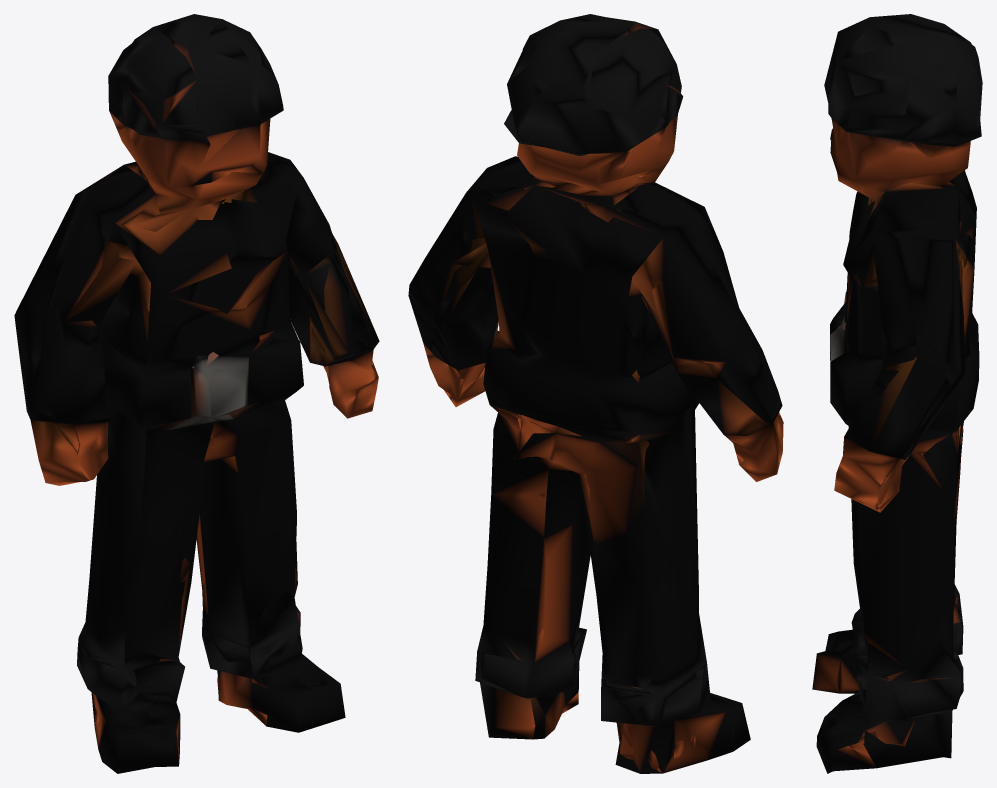
Rendered from gen3d-thief-lod0.glb.
3 views of the same model, side by side, from view 1: azimuth 30°, elevation 25°; view 2: azimuth 150°, elevation 25°; view 3: azimuth 270°, elevation 25° (orthographic). The views are drawn at different scales.
Visible parts, largest first — view 1: part_0; view 2: part_0; view 3: part_0.
Boxes of the visible parts, x1,y1,x2,y2 form: part_0: (14,14,379,773); part_0: (408,14,783,773); part_0: (812,14,982,773).
Size of the model in its own units: 0.5151 by 0.9999 by 0.2218.
